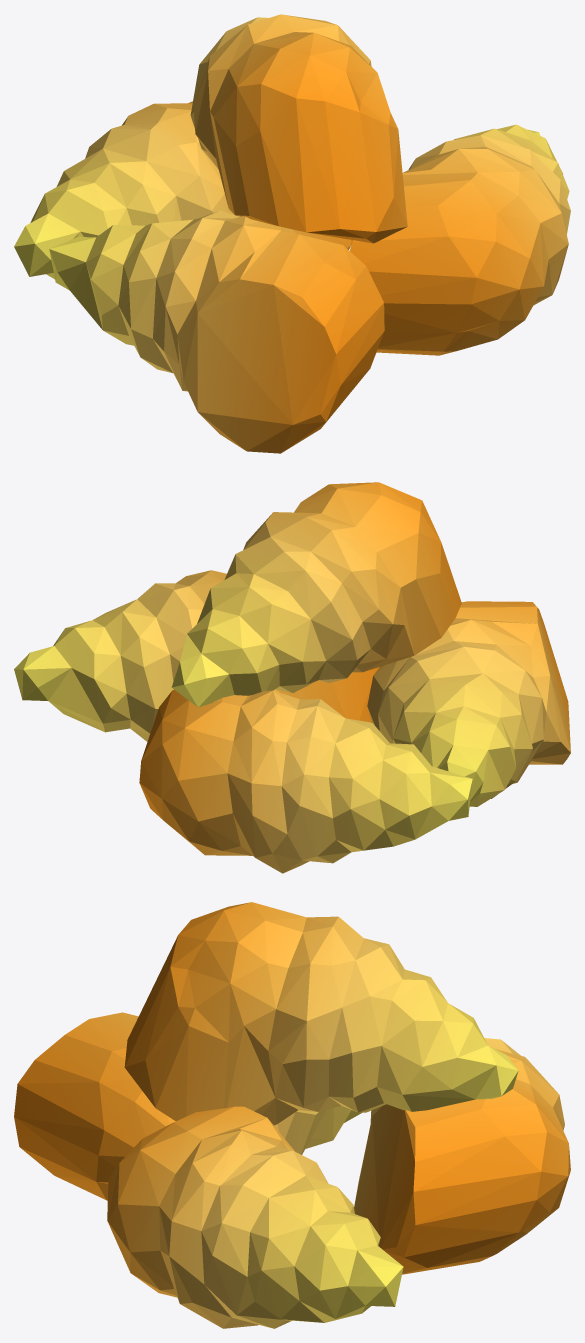
Rendered from SM_Shell_9.fbx.
The picture shows the model from 3 angles, top to bottom: view 1: azimuth 30°, elevation 25°; view 2: azimuth 150°, elevation 25°; view 3: azimuth 270°, elevation 25°; orthographic projection. The views are drawn at different scales.
Parts seen in each view (by area): view 1: Shell_9; view 2: Shell_9; view 3: Shell_9.
Boxes of the visible parts, left/top/right/bottom form: Shell_9: left=14, top=14, right=570, bottom=453; Shell_9: left=14, top=482, right=570, bottom=873; Shell_9: left=14, top=902, right=570, bottom=1328.
Bounding box in the file's own units: 58.16 × 34.75 × 54.35.
